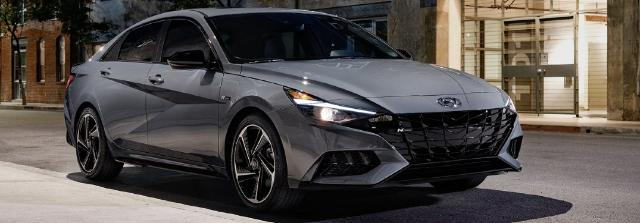hyundai: (63, 7, 523, 211)
